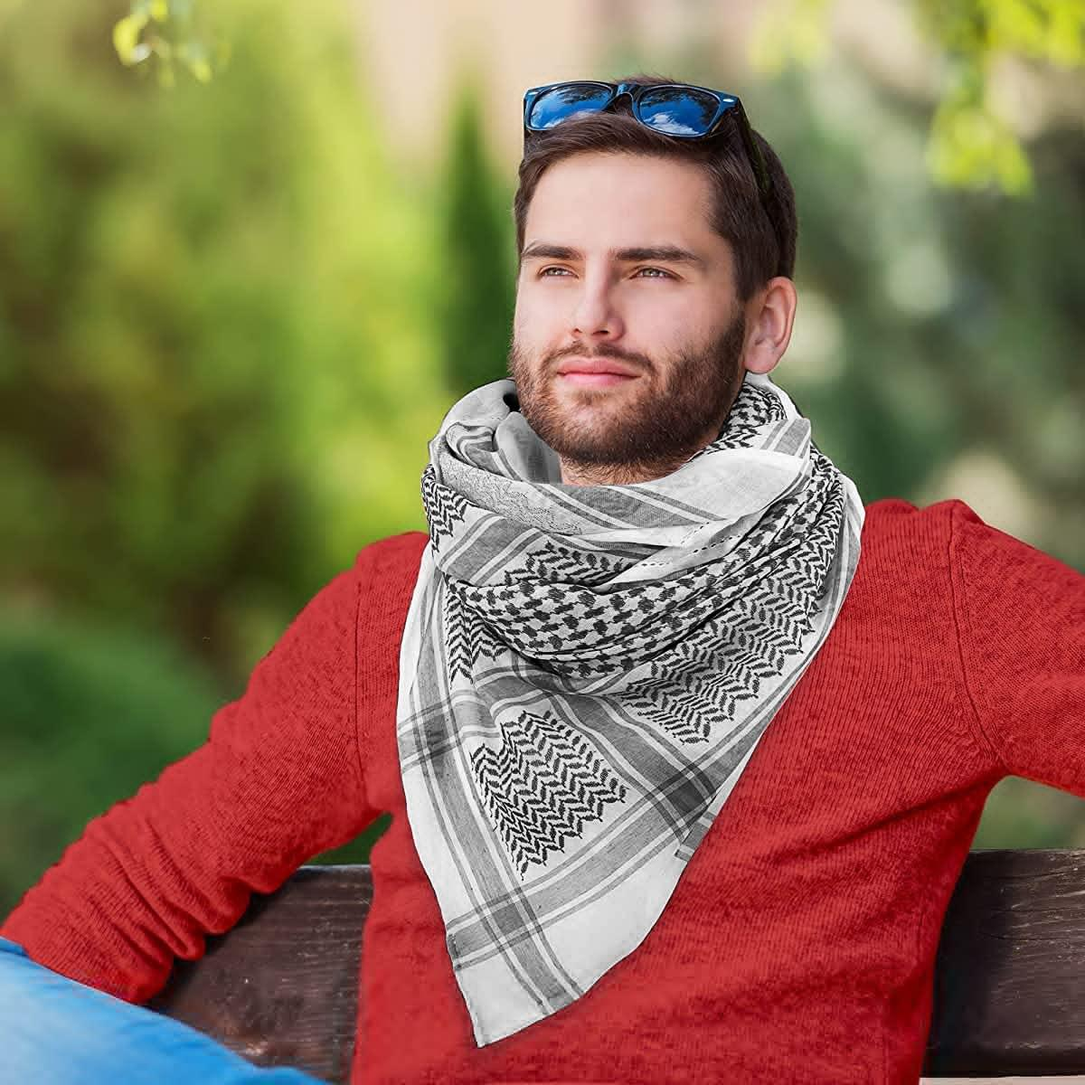sunglasses: (513, 54, 762, 156)
